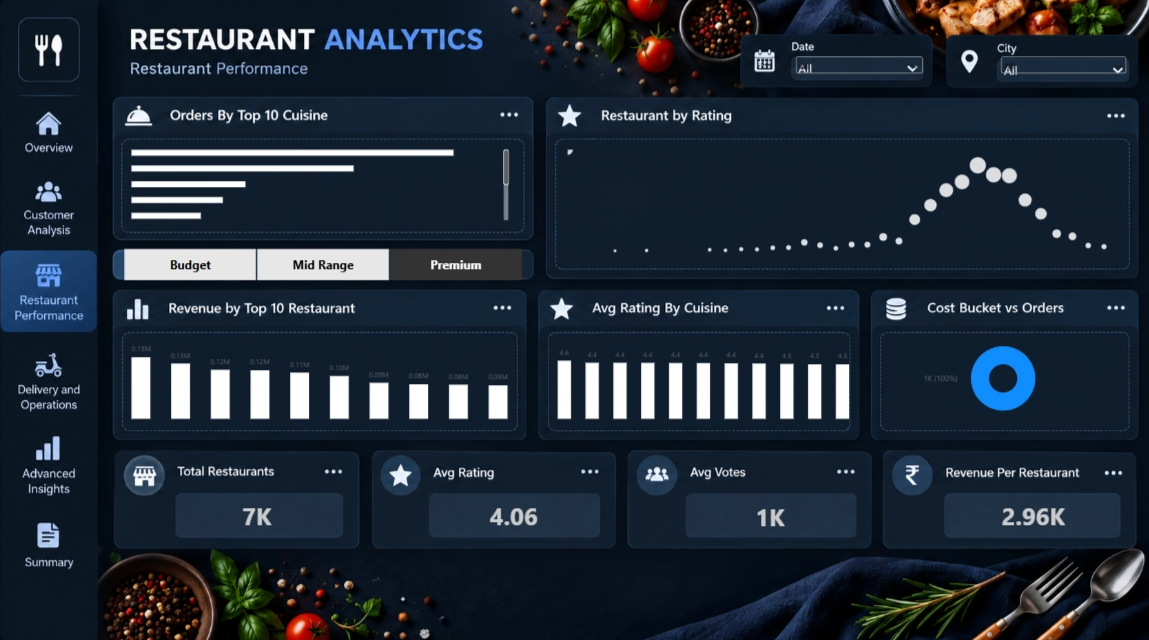

This screenshot's page, from the dashboard's own definition file:
{"tool":"powerbi","page":{"name":"RESTAURANT PERFORMANCE","canvas":[1920,1080],"ordinal":2},"visuals":[{"type":"cardVisual","title":"Total Restaurants","fields":{"Data":["Orders.Total Restaurants"]},"box":[291.7,829.2,279.2,72.9],"z":0},{"type":"cardVisual","title":"Avg Rating","fields":{"Data":["Orders.Avg Rating"]},"box":[718.8,829.2,281.2,72.9],"z":1000},{"type":"cardVisual","title":"Avg Votes","fields":{"Data":["Orders.Avg Votes"]},"box":[1137.5,831.2,298,72],"z":2000},{"type":"cardVisual","title":"Revenue Per Restaurant","fields":{"Data":["Orders.Revenue per Restaurant"]},"box":[1583.3,829.2,284,72],"z":3000},{"type":"columnChart","title":"Revenue by Top 10 Restaurant","fields":{"Category":["Restaurants.name"],"Y":["Orders.Total Revenue"]},"box":[206.2,554.2,660.4,166.7],"z":4000},{"type":"barChart","title":"Orders By Top 10 Cuisine","fields":{"Category":["Restaurants.Primary Cuisine"],"Y":["Orders.Total Orders"]},"box":[206.2,233.3,660.4,156.2],"z":5000},{"type":"columnChart","title":"Avg Rating By Cuisine","fields":{"Category":["Restaurants.Primary Cuisine"],"Y":["Orders.Avg Rating"]},"box":[916.7,554.2,518.8,166.7],"z":6000},{"type":"scatterChart","title":"Restaurant by Rating","fields":{"Size":["Orders.Total Orders"],"X":["Restaurants.rate"],"Y":["Orders.Total Revenue"]},"box":[933.3,233.3,952.1,220.8],"z":7000},{"type":"donutChart","title":"Cost Bucket vs Orders","fields":{"Category":["Restaurants.Cost Bucket"],"Y":["Orders.Total Orders"]},"box":[1464.6,554.2,420.8,166.7],"z":8000},{"type":"slicer","fields":{"Values":["Restaurants.Cost Bucket"]},"box":[189.6,418.8,702.1,56.2],"z":9000},{"type":"slicer","title":"Order status breakdown","fields":{"Values":["Customers.FilterCity"]},"box":[1666.7,95.8,218.8,37.5],"z":10000},{"type":"slicer","title":"Order status breakdown","fields":{"Values":["DateTable.Date.Variation.Date Hierarchy.Year","DateTable.Date.Variation.Date Hierarchy.Quarter","DateTable.Date.Variation.Date Hierarchy.Month","DateTable.Date.Variation.Date Hierarchy.Day"]},"box":[1325,95.8,220.8,37.5],"z":11000}]}

Visuals, with their boxes in screenshot pixels (x1, y1, x2, y2), scaled from the page's 1920x1080 canvas onto the 1149x640 screenshot:
"Total Restaurants" cardVisual: box=[175, 491, 342, 535]
"Avg Rating" cardVisual: box=[430, 491, 598, 535]
"Avg Votes" cardVisual: box=[681, 493, 859, 535]
"Revenue Per Restaurant" cardVisual: box=[948, 491, 1117, 534]
"Revenue by Top 10 Restaurant" columnChart: box=[123, 328, 519, 427]
"Orders By Top 10 Cuisine" barChart: box=[123, 138, 519, 231]
"Avg Rating By Cuisine" columnChart: box=[549, 328, 859, 427]
"Restaurant by Rating" scatterChart: box=[559, 138, 1128, 269]
"Cost Bucket vs Orders" donutChart: box=[876, 328, 1128, 427]
slicer - Restaurants.Cost Bucket: box=[113, 248, 534, 281]
"Order status breakdown" slicer: box=[997, 57, 1128, 79]
"Order status breakdown" slicer: box=[793, 57, 925, 79]
